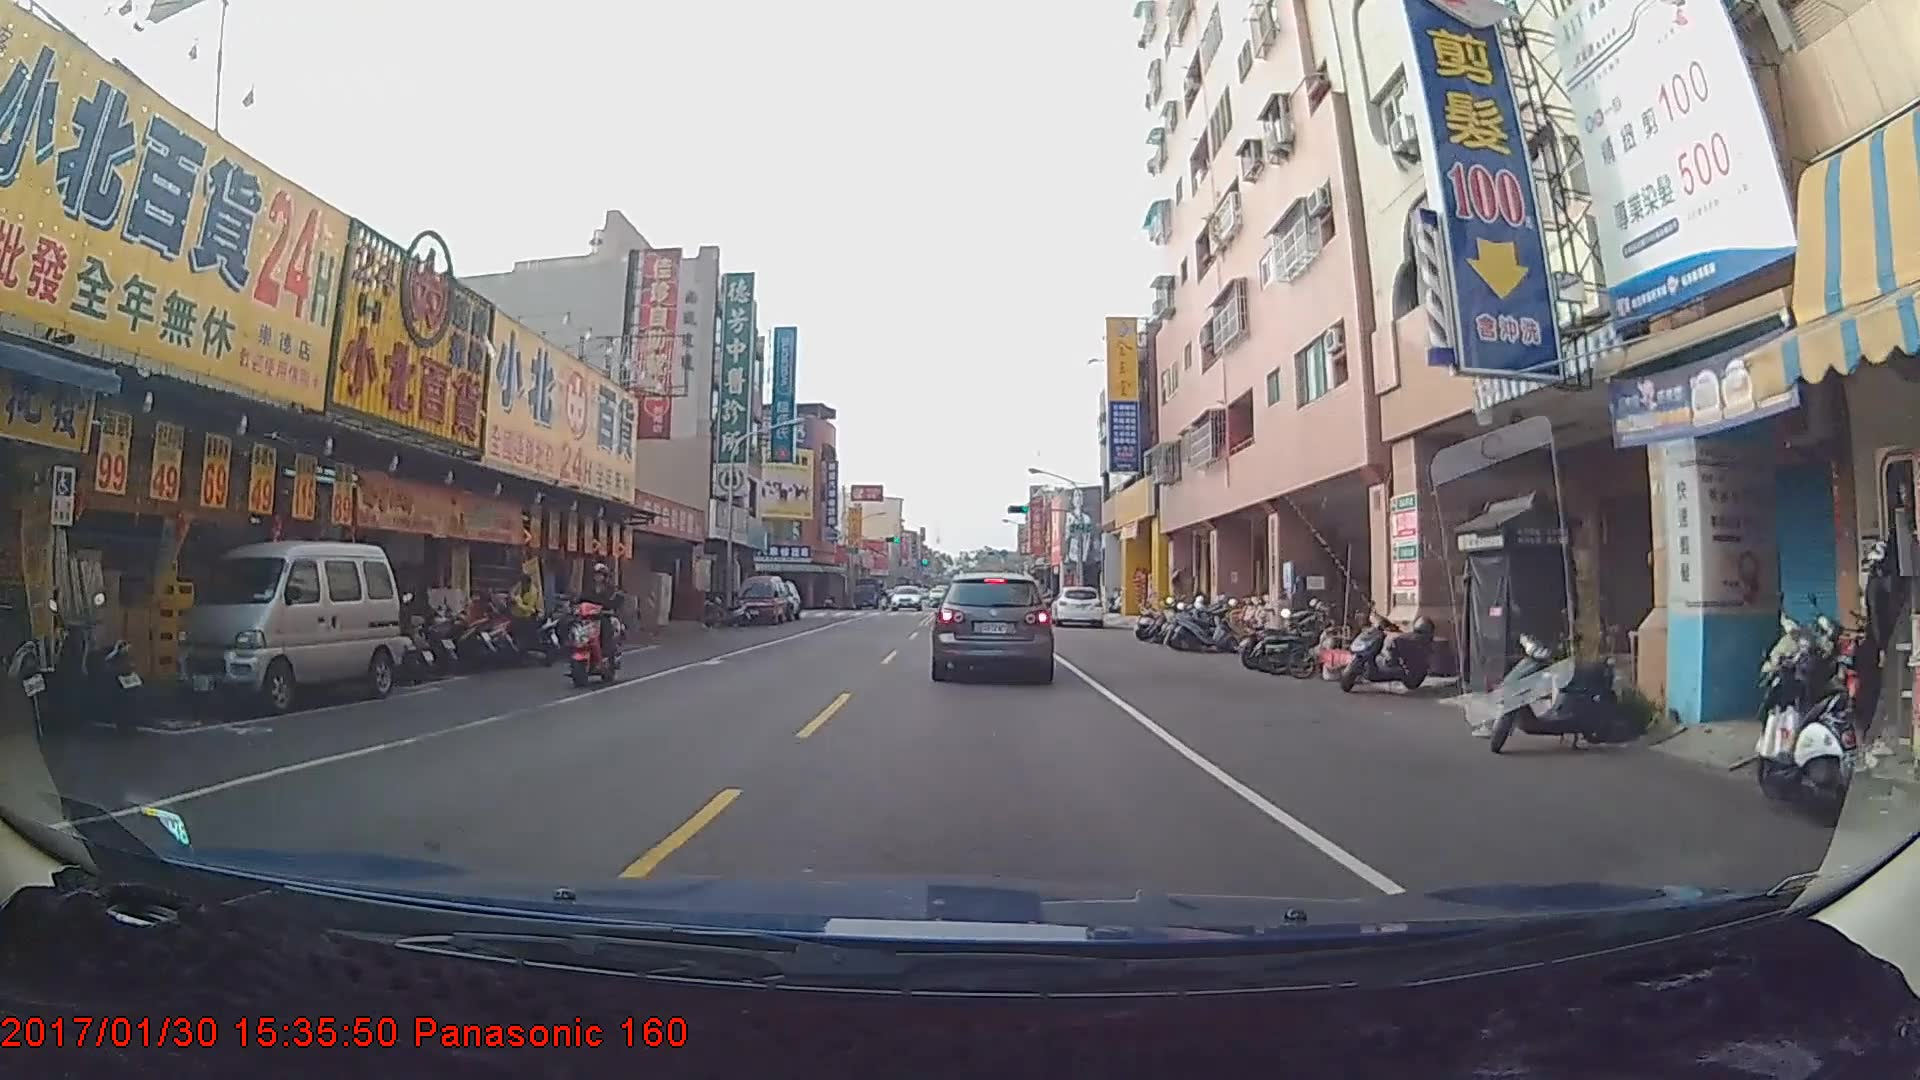pedestrian: (506, 575, 544, 659)
rider: (558, 561, 631, 692)
vehicle: (171, 544, 395, 714), (933, 570, 1053, 680), (734, 575, 787, 626), (1049, 585, 1104, 629), (888, 580, 919, 605)
